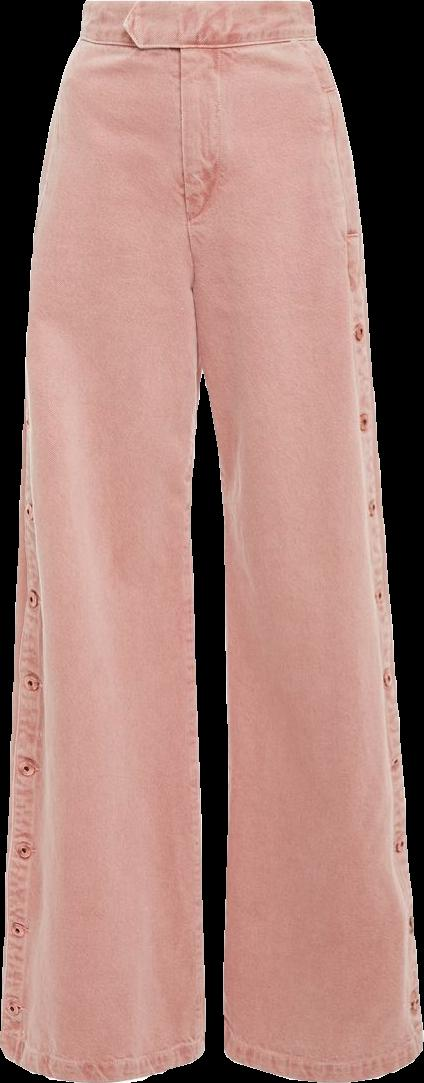Hemline: (0, 1037, 212, 1081), (222, 1037, 423, 1081)
Pantleg: (177, 0, 423, 1082), (0, 0, 205, 1082)
Waistline: (75, 31, 318, 57), (79, 0, 313, 14)
